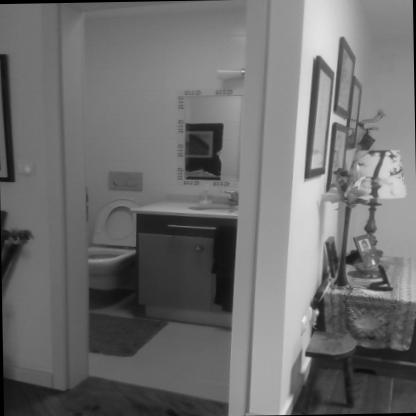open: (38, 0, 274, 416)
